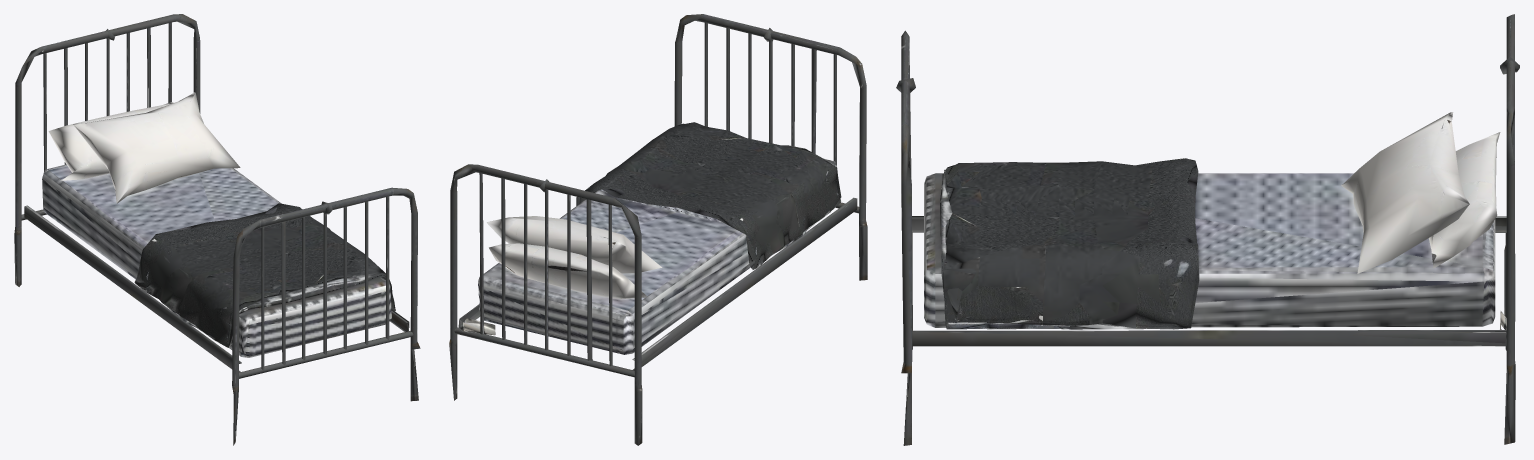
Rendered from cell_bunk.glb.
The picture shows the model from 3 angles, left to right: view 1: azimuth 30°, elevation 25°; view 2: azimuth 150°, elevation 25°; view 3: azimuth 270°, elevation 25°; orthographic projection. The views are drawn at different scales.
Bounding box in the file's own units: 0.9372 × 1.13 × 1.95.
Materials: 1 (1 with a texture image).
